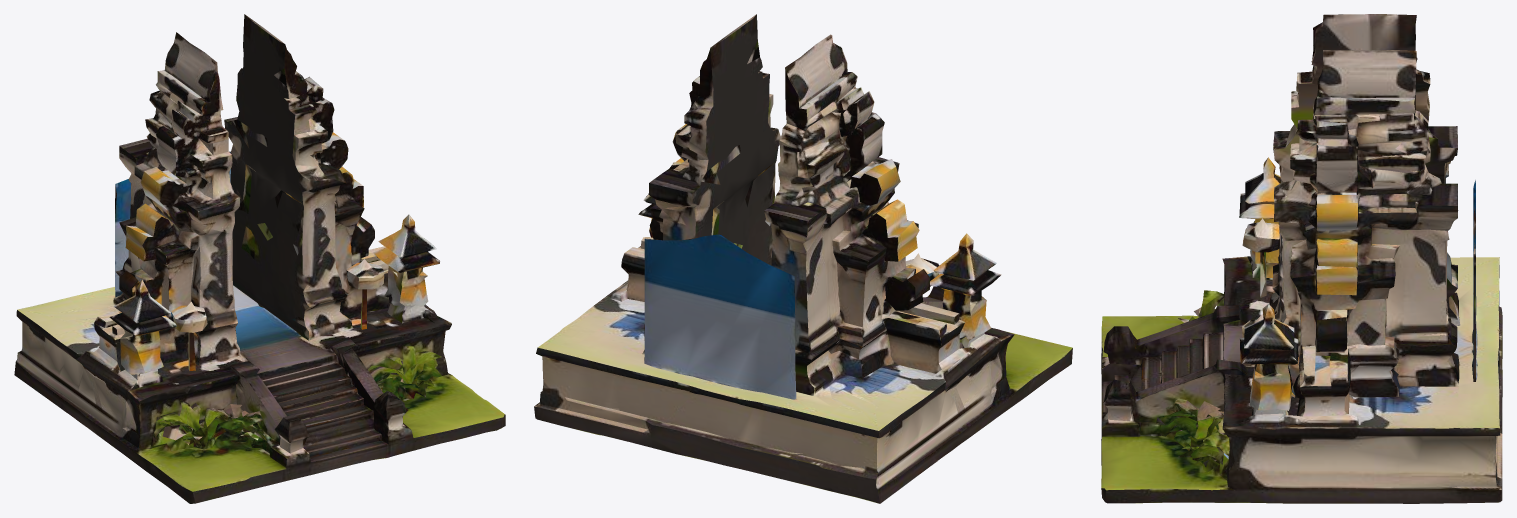
The model's file is lempuyang.glb.
The picture shows the model from 3 angles, left to right: view 1: azimuth 30°, elevation 25°; view 2: azimuth 150°, elevation 25°; view 3: azimuth 270°, elevation 25°; orthographic projection. The views are drawn at different scales.
Parts seen in each view (by area): view 1: logan-textured.obj; view 2: logan-textured.obj; view 3: logan-textured.obj.
Part boxes in pixels (box(x1,y1,x2,y2)): logan-textured.obj: box(14, 14, 505, 503); logan-textured.obj: box(534, 14, 1072, 503); logan-textured.obj: box(1101, 14, 1502, 503).
Size of the model in its own units: 0.9653 by 1 by 0.9405.
Materials: 1 (1 with a texture image).
